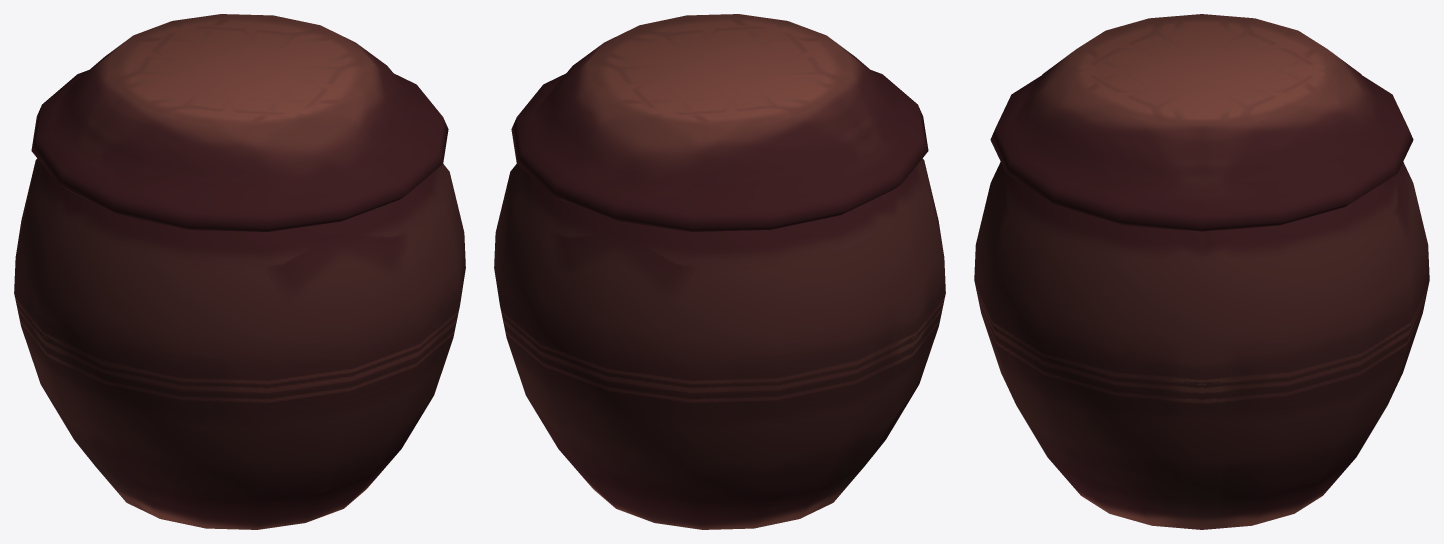
File: Pot.fbx
The picture shows the model from 3 angles, left to right: view 1: azimuth 30°, elevation 25°; view 2: azimuth 150°, elevation 25°; view 3: azimuth 270°, elevation 25°; orthographic projection.
Parts seen in each view (by area): view 1: Pot; view 2: Pot; view 3: Pot.
Boxes of the visible parts, x1,y1,x2,y2 form: Pot: (14,14,465,529); Pot: (494,14,945,529); Pot: (974,14,1429,529).
Size of the model in its own units: 55.28 by 54.13 by 55.28.
